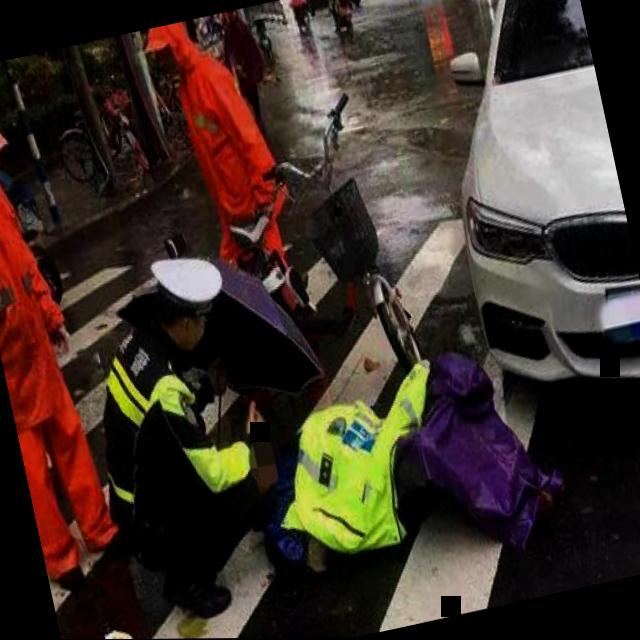Fall-Detected: (229, 315, 573, 601)
